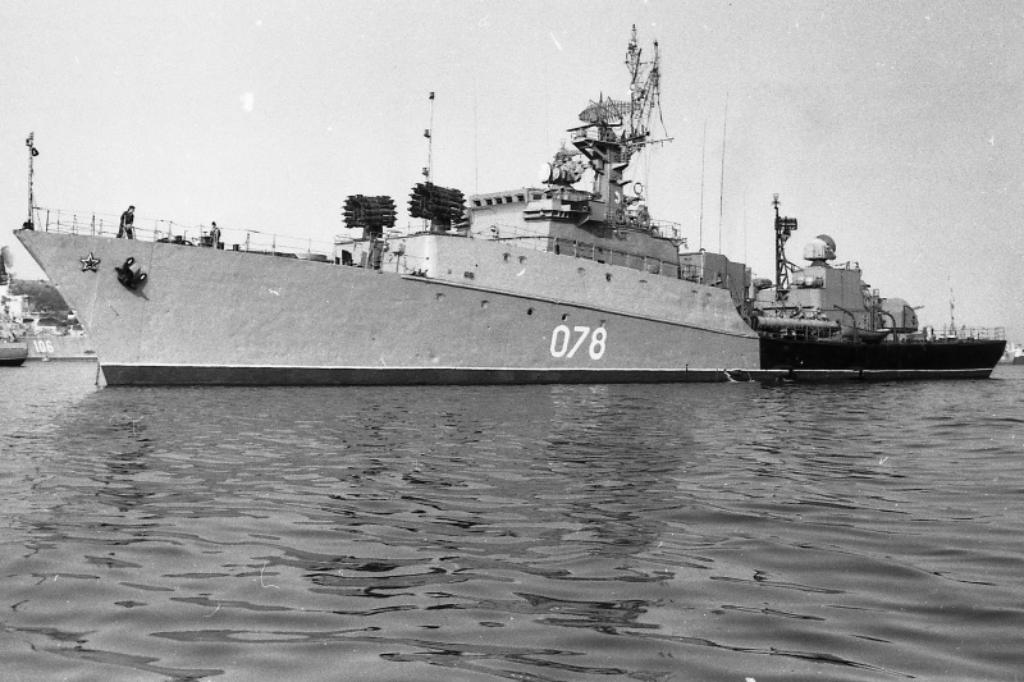Warship: (13, 21, 1011, 389)
